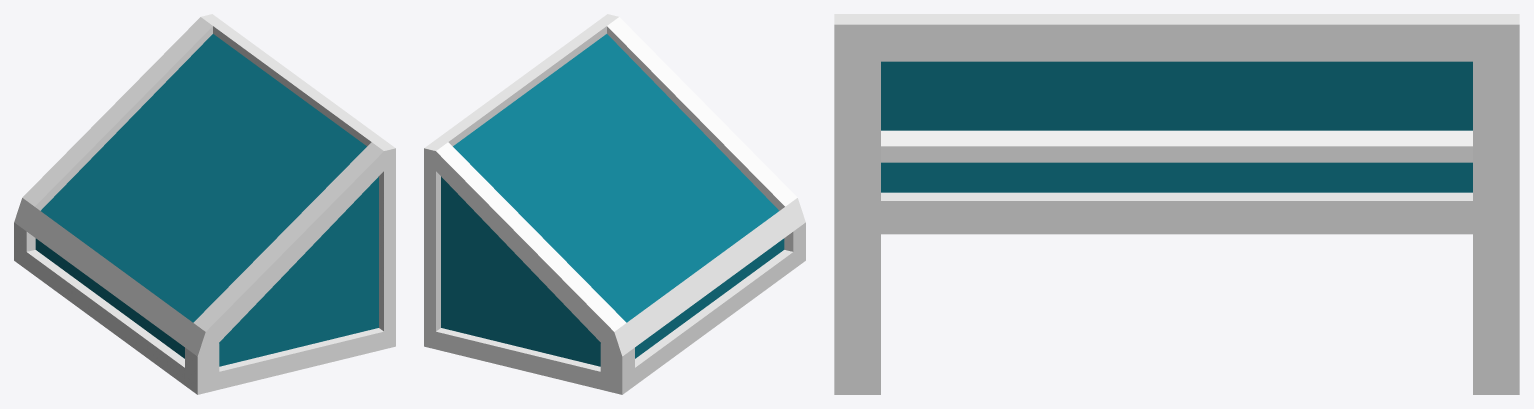
Rendered from Goal.fbx.
The picture shows the model from 3 angles, left to right: view 1: azimuth 30°, elevation 25°; view 2: azimuth 150°, elevation 25°; view 3: azimuth 270°, elevation 25°; orthographic projection. The views are drawn at different scales.
Parts seen in each view (by area): view 1: Goal; view 2: Goal; view 3: Goal.
Boxes of the visible parts, x1=… form: Goal: x1=14, y1=14, x2=395, y2=394; Goal: x1=424, y1=14, x2=805, y2=394; Goal: x1=834, y1=14, x2=1519, y2=394.
Size of the model in its own units: 8978 by 8581 by 14389.
